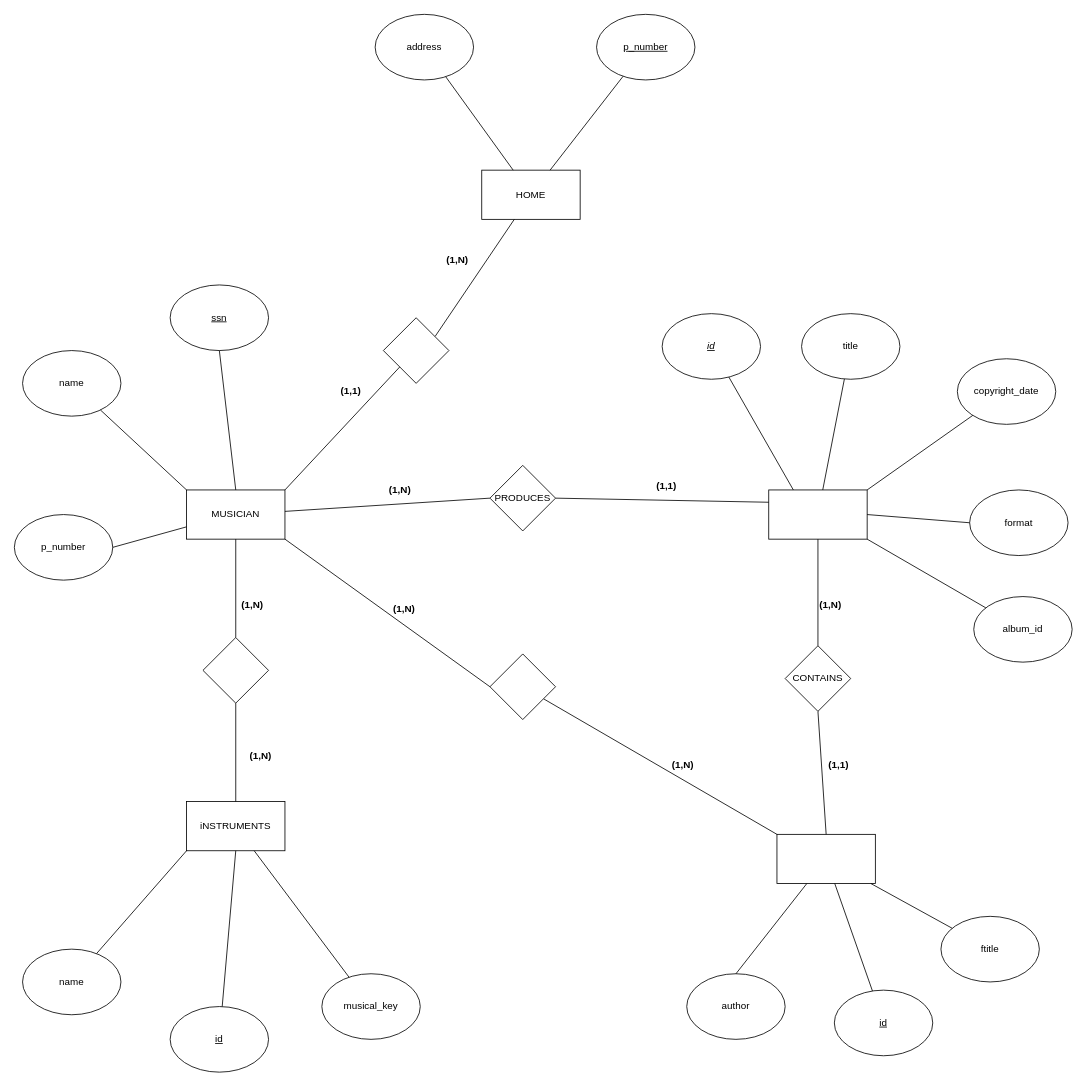
This 1087x1087 diagram has some shape labels left out. Each missing label, with the centre of its shape:
"ALBUM" goes at (x=817, y=514).
"LIVES" goes at (x=416, y=350).
"PERFORMS" goes at (x=522, y=686).
"PLAYS" goes at (x=235, y=670).
"SONG" goes at (x=825, y=859).
